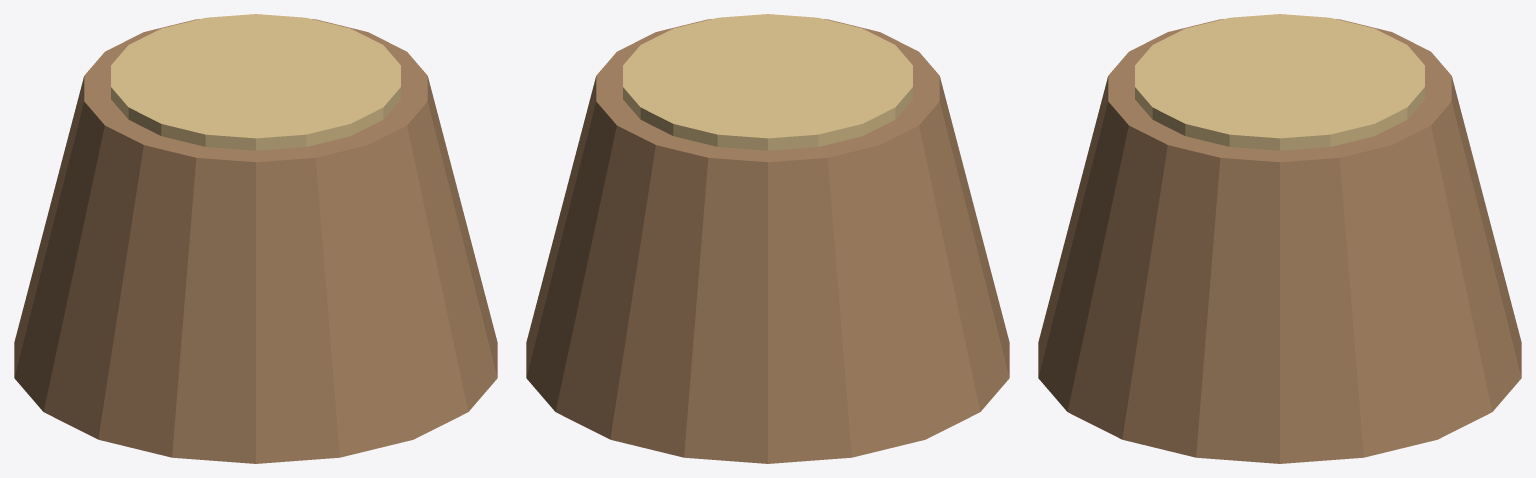
The model's file is coconut_palm_stump_tropical_island_and_palm_trees_6801.glb.
3 views of the same model, side by side, from view 1: azimuth 30°, elevation 25°; view 2: azimuth 150°, elevation 25°; view 3: azimuth 270°, elevation 25° (orthographic).
Parts seen in each view (by area): view 1: palm-stump; view 2: palm-stump; view 3: palm-stump.
Part boxes in pixels (left/top/right/bottom): palm-stump: left=14, top=14, right=497, bottom=463; palm-stump: left=526, top=14, right=1009, bottom=463; palm-stump: left=1038, top=14, right=1521, bottom=463.
Size of the model in its own units: 0.9 by 0.575 by 0.8864.
